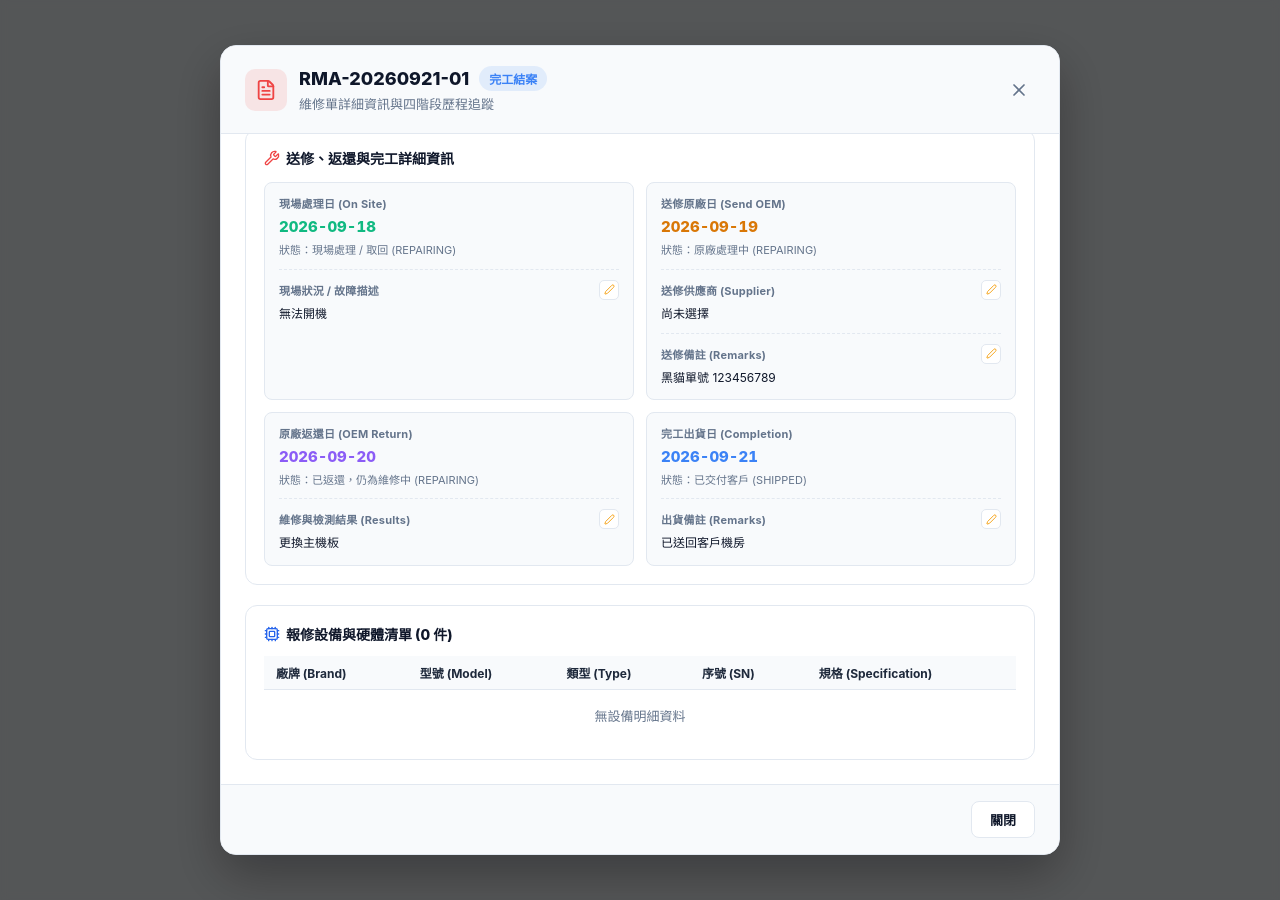
Test: 詳情裡修改四個階段的說明 › 維修與檢測結果 可以就地修改，帶入目前的內容
(page scrolled)
What coordinates should you click on to do the following:
click the button named "修改維修與檢測結果"
I would click on:
 (609, 519)
Its box is [599, 509, 619, 529].
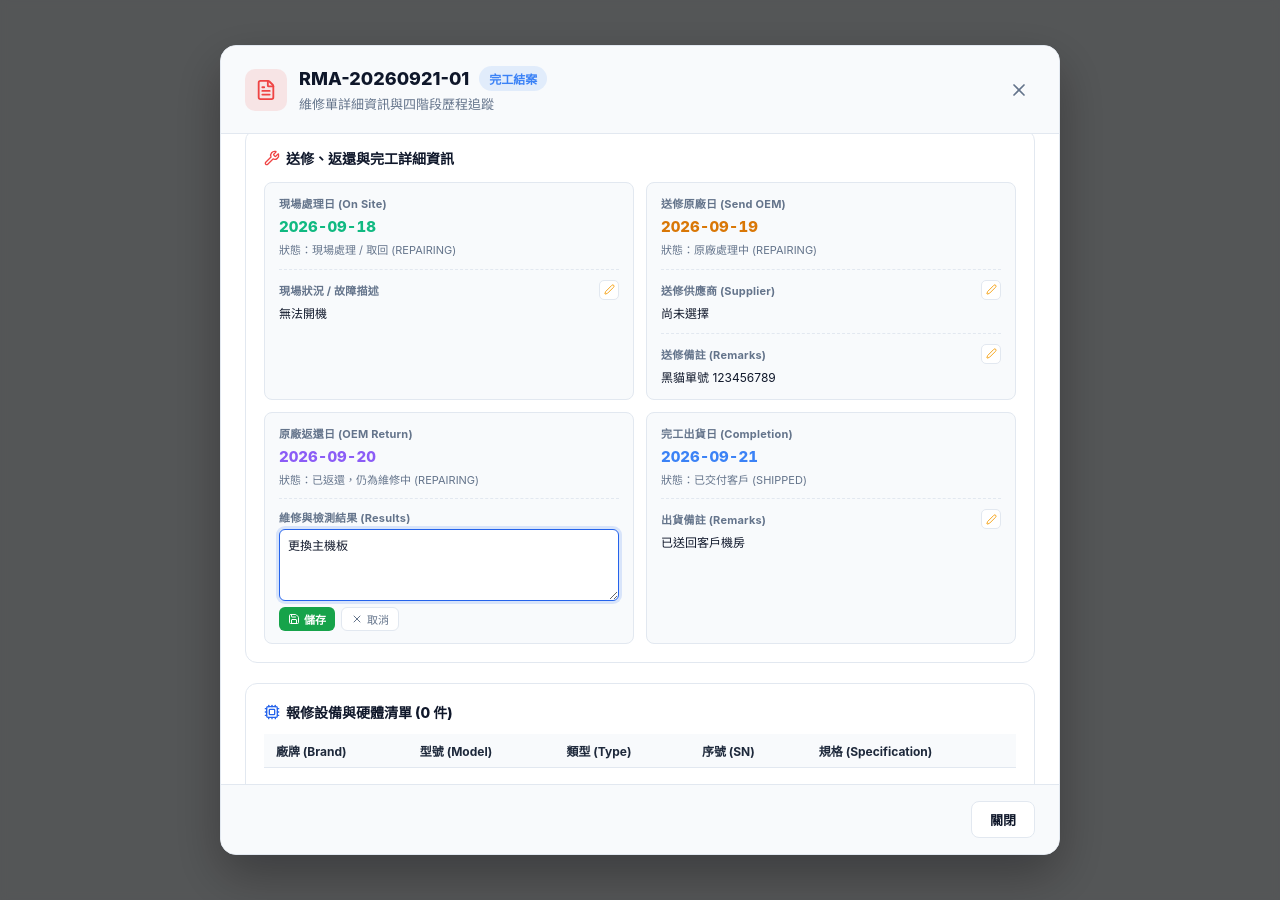
Expected: the text box named "修改維修與檢測結果" holds "更換主機板", [279, 529, 619, 601]
